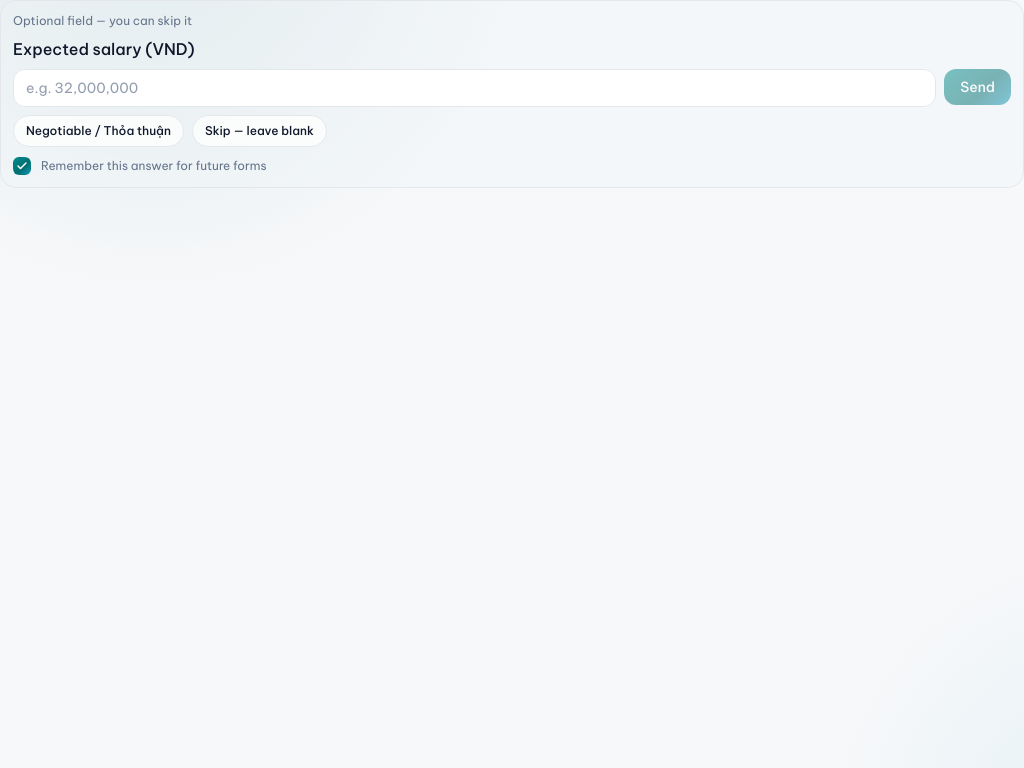
Test: QuestionCard (UC-12) › a typed salary is sent as digits, formatted with thousands separators
Click the checkbox named "Remember this answer for future forms" at (22, 166), box [13, 157, 31, 175]
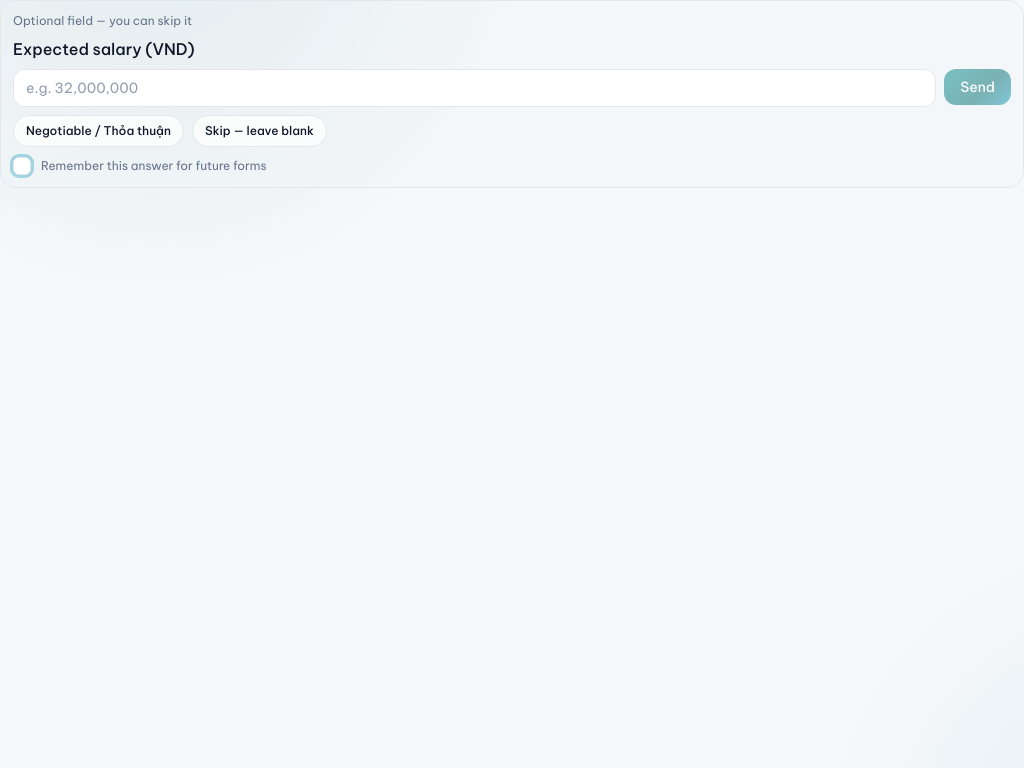
Type "32000000" into the field named "Expected salary (VND)" at (475, 88), box [13, 69, 936, 107]
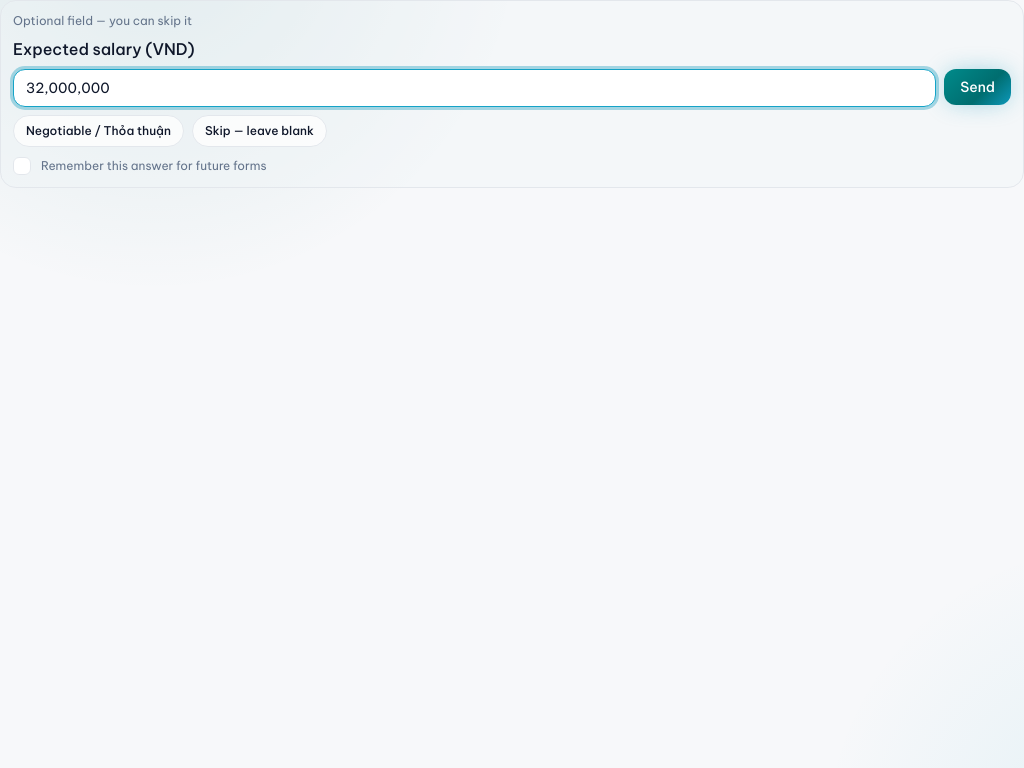
Now the field named "Expected salary (VND)" holds "32,000,000", box [13, 69, 936, 107]
Click the button "Send" at (978, 87), box [944, 69, 1011, 105]
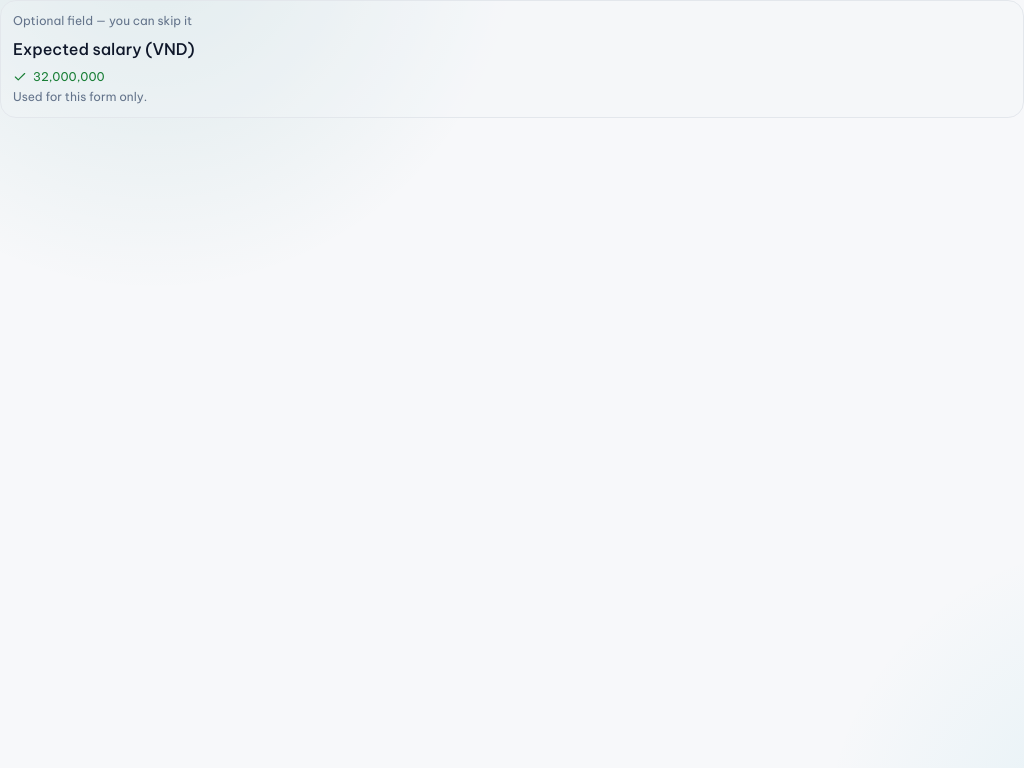
Now the text "32,000,000" is shown, box [13, 69, 105, 84]
Now the text "Used for this form only." is shown, box [13, 89, 147, 104]
